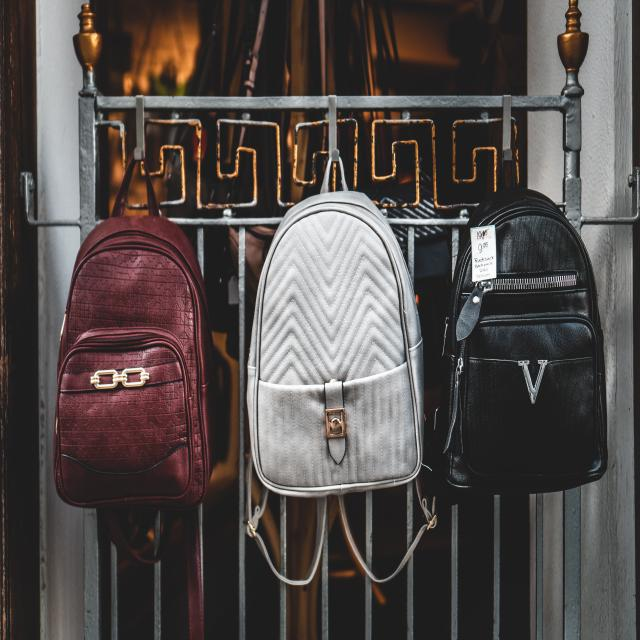backpack: (245, 156, 425, 492), (434, 156, 606, 494), (54, 152, 209, 506)
